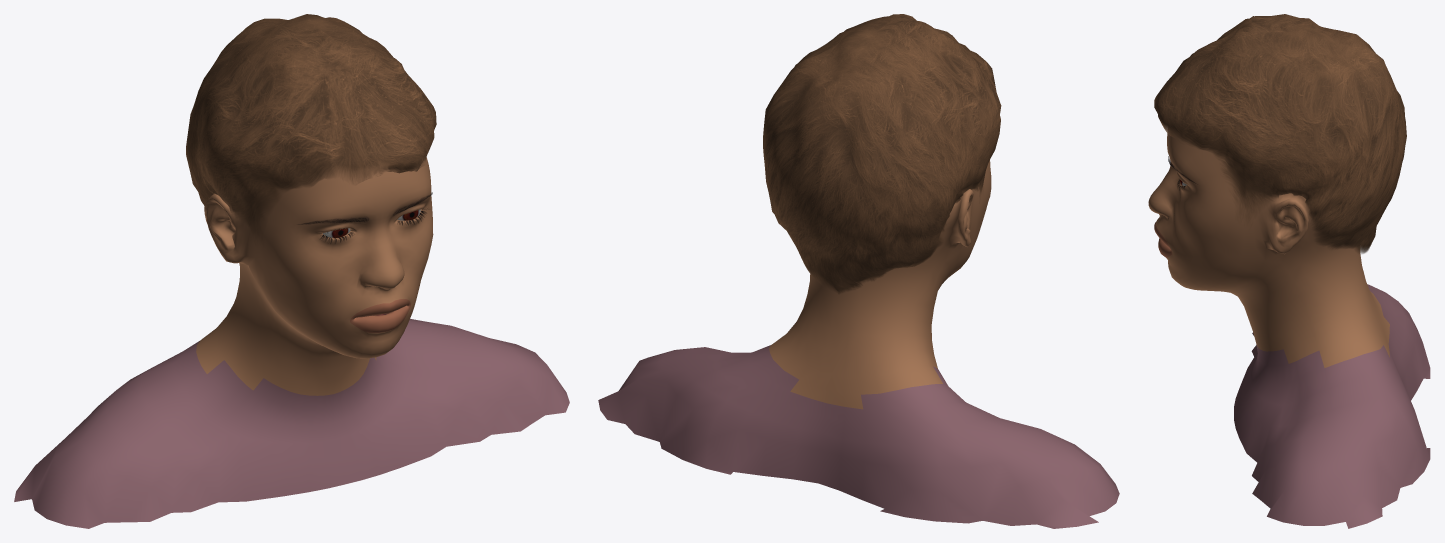
Rendered from neutral-10.glb.
3 views of the same model, side by side, from view 1: azimuth 30°, elevation 25°; view 2: azimuth 150°, elevation 25°; view 3: azimuth 270°, elevation 25° (orthographic). The views are drawn at different scales.
Visible parts, largest first — view 1: mpfb-face, mpfb-face.short02; view 2: mpfb-face, mpfb-face.short02; view 3: mpfb-face, mpfb-face.short02.
Part boxes in pixels (left/top/right/bottom): mpfb-face: left=14, top=157, right=569, bottom=528; mpfb-face.short02: left=186, top=14, right=436, bottom=240; mpfb-face: left=598, top=160, right=1119, bottom=528; mpfb-face.short02: left=763, top=14, right=1001, bottom=293; mpfb-face: left=1148, top=129, right=1430, bottom=528; mpfb-face.short02: left=1154, top=14, right=1406, bottom=253.
Size of the model in its own units: 0.443 by 0.3449 by 0.2286.
Materials: 9 (6 with a texture image).
